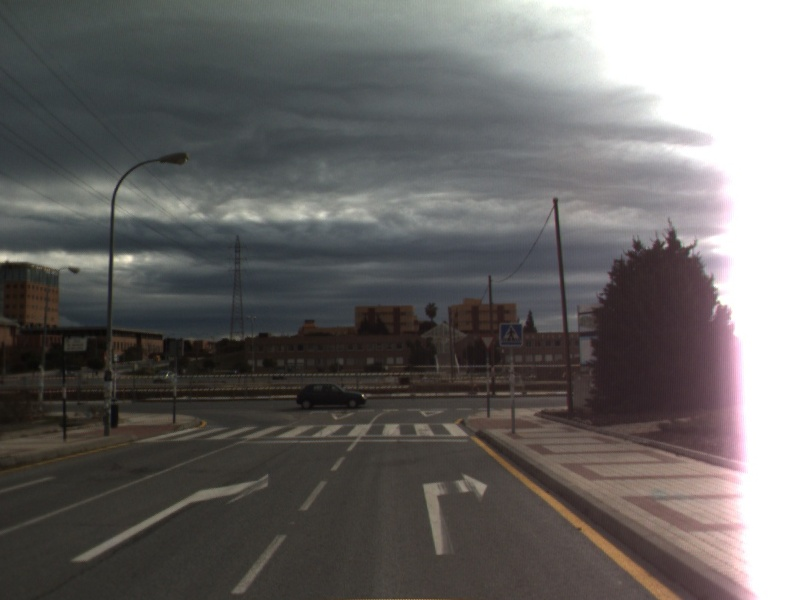RIGHT: (68, 472, 270, 564), (420, 470, 490, 557)
